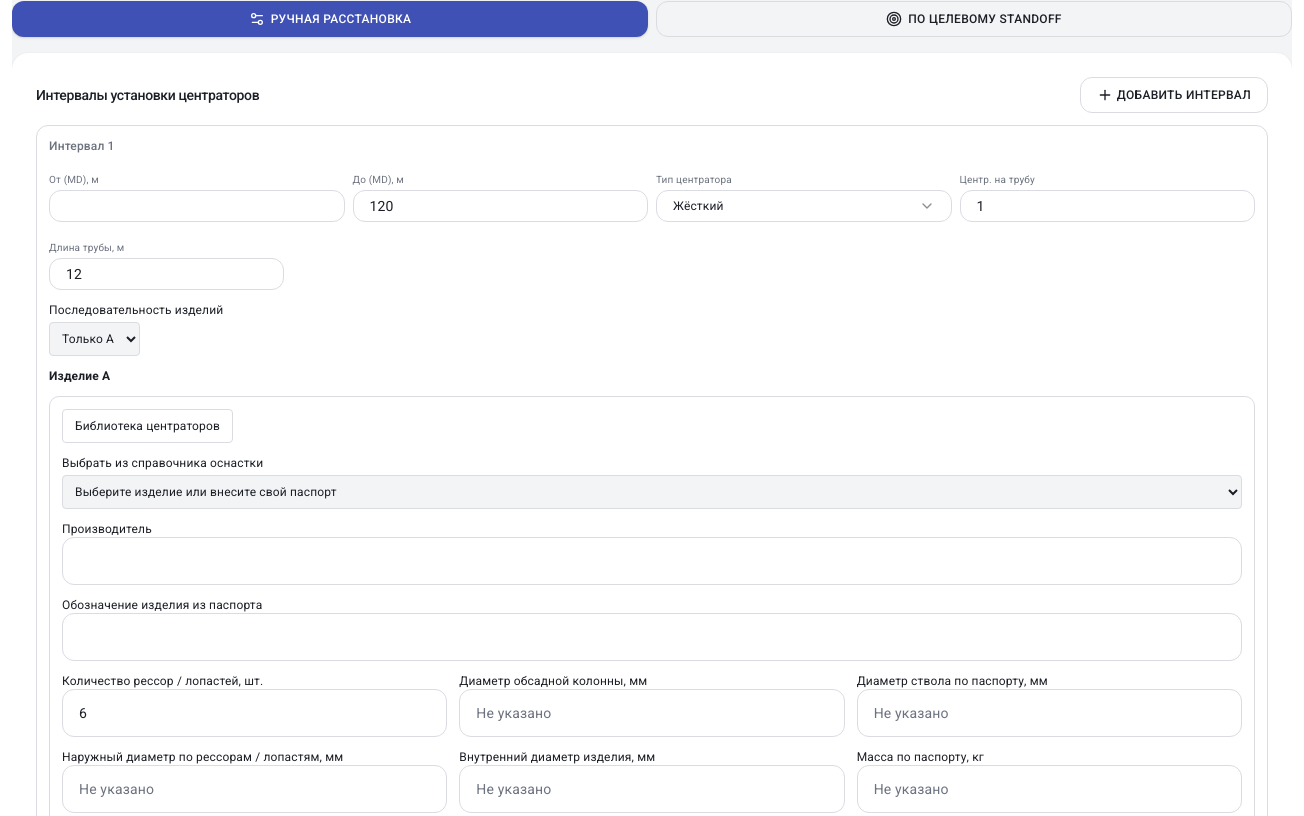
Test: А/Б требует второго изделия, передаёт его в расчёт и сбрасывает результат при смене шаблона
Later steps or results of the test are not shown.
Select "AAB" in the dropdown labelled "Последовательность изделий": (94, 339) [49,322,140,356]
(page scrolled)
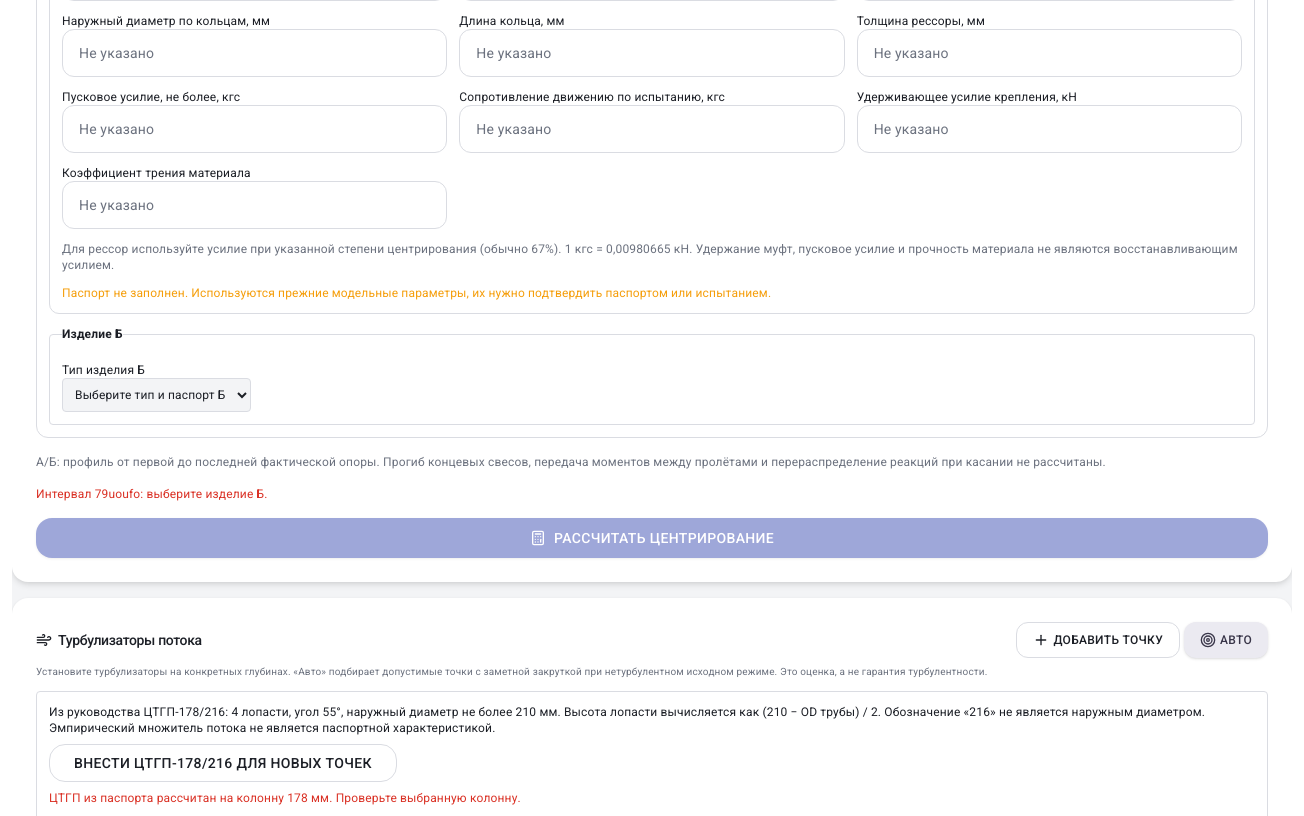
Check: the button "Рассчитать центрирование" is disabled, box [36,518,1268,558]
Check: the text "выберите изделие Б" is shown, box [36,487,268,501]
Select "Пружинный" in the dropdown labelled "Тип изделия Б": (156, 395) [62,378,251,412]
(page scrolled)
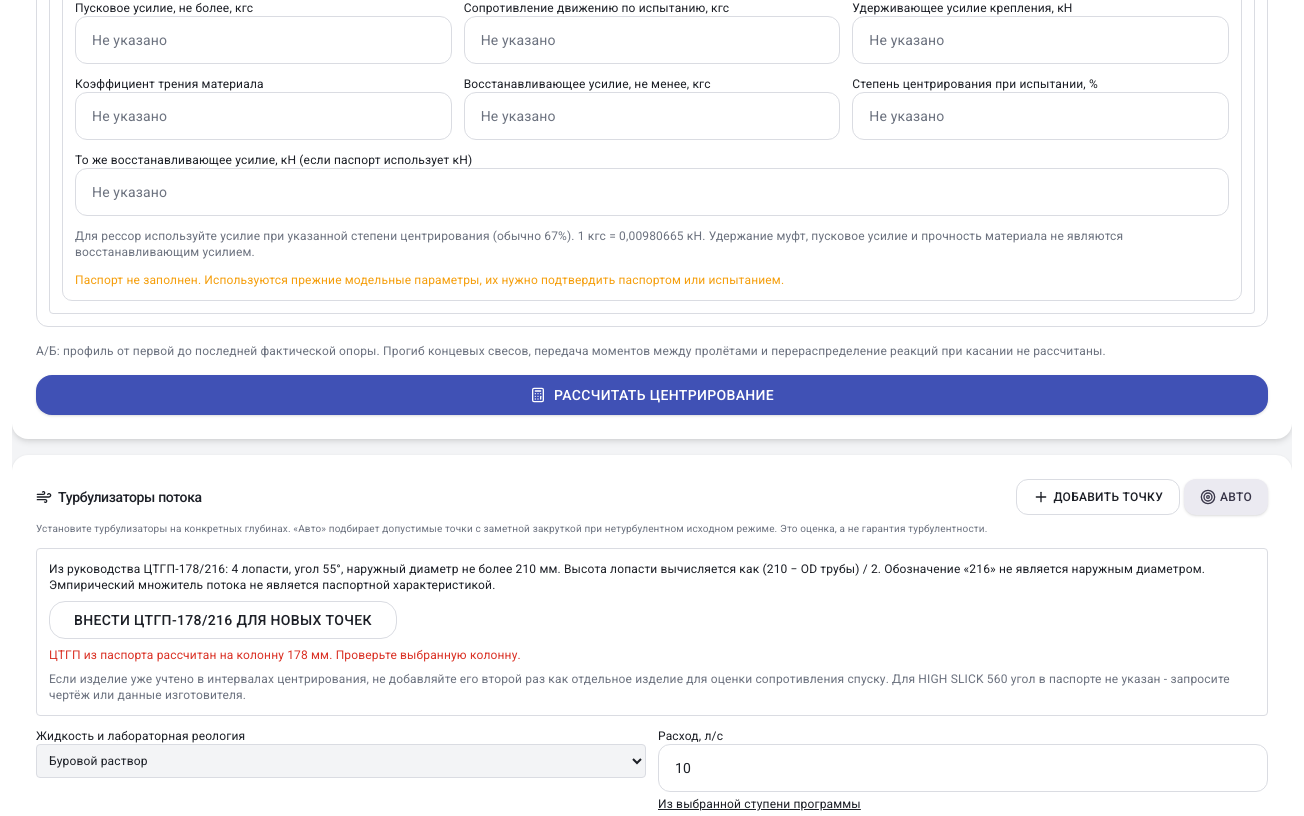
Check: the button "Рассчитать центрирование" is enabled, box [36,375,1268,415]
